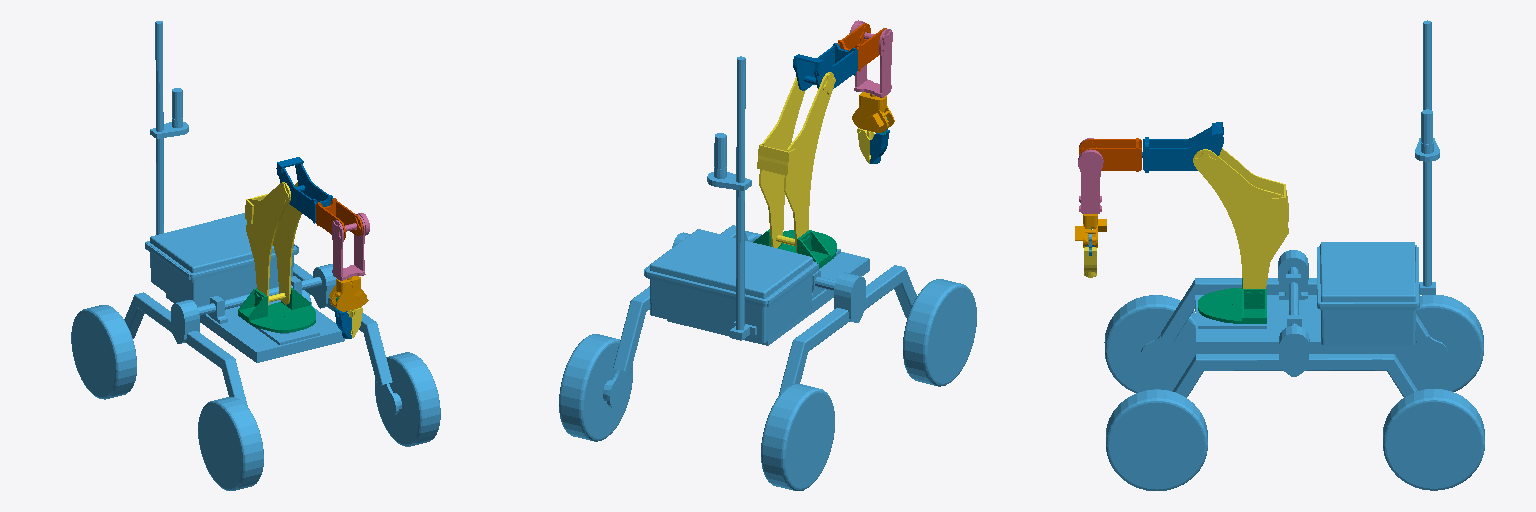
--- What the picture shows (computed from the rendered views, not written in the file) ---
3 views of the same robot in one strip: view 1: azimuth 30°, elevation 25°; view 2: azimuth 150°, elevation 25°; view 3: azimuth 270°, elevation 25° (orthographic).
Robot: polar — 13 links, 12 joints (10 revolute, 2 fixed); root link world; default pose: every joint at zero.
Links seen in each view (by area): view 1: polar_link0, polar_link2, polar_link1, polar_link3, polar_link5, polar_link4, polar_hand; view 2: polar_link0, polar_link2, polar_link3, polar_link1, polar_link5, polar_hand, polar_link4; view 3: polar_link0, polar_link2, polar_link3, polar_link1, polar_link4, polar_link5, polar_hand.
Link boxes in pixels (box(x1,y1,x2,y2)): polar_link0: box(71, 21, 440, 490); polar_link2: box(245, 182, 301, 305); polar_link1: box(238, 288, 315, 332); polar_link3: box(276, 157, 333, 223); polar_link5: box(332, 213, 369, 280); polar_link4: box(316, 198, 362, 239); polar_hand: box(329, 276, 368, 311); polar_link0: box(559, 56, 976, 490); polar_link2: box(757, 72, 835, 251); polar_link3: box(793, 43, 857, 90); polar_link1: box(753, 229, 836, 268); polar_link5: box(849, 20, 892, 97); polar_hand: box(852, 92, 894, 132); polar_link4: box(837, 23, 886, 71); polar_link0: box(1104, 20, 1484, 490); polar_link2: box(1193, 148, 1288, 288); polar_link3: box(1142, 122, 1223, 172); polar_link1: box(1198, 278, 1266, 323); polar_link4: box(1079, 138, 1141, 171); polar_link5: box(1078, 138, 1103, 213); polar_hand: box(1075, 214, 1106, 247).
Bounding box of the posed robot: 0.7447 × 1.2 × 1.28 m (x, y, z).
12 mesh visuals loaded from 12 distinct referenced files (12 Collada DAE).

URDF robot description (polar):
<?xml version="1.0" encoding="utf-8" ?>
<!-- =================================================================================== -->
<!-- |    This document was autogenerated by xacro from [local-path]/ws_manipulation/src/polar_description/robots/polar_arm_hand.urdf.xacro | -->
<!-- |    EDITING THIS FILE BY HAND IS NOT RECOMMENDED                                 | -->
<!-- =================================================================================== -->
<robot name="polar">
    <link name="world" />
    <joint name="robot_to_world" type="fixed">
        <parent link="world" />
        <child link="polar_link0" />
        <origin rpy="0.0 0.0 0.0" xyz="0.0 0.0 0.0" />
    </joint>
    <link name="polar_link0">
        <visual>
            <origin rpy="0 0 0" xyz="0 0 0" />
            <geometry>
                <mesh filename="package://polar_description/meshes/link0.dae" />
            </geometry>
        </visual>
        <collision>
            <origin rpy="0 0 0" xyz="0 0 0" />
            <geometry>
                <mesh filename="package://polar_description/meshes/link0.dae" />
            </geometry>
        </collision>
        
<inertial>
            <origin rpy="0 0 0" xyz="-0.0003 -0.0 0.0620" />
            <mass value="4.6096" />
            <inertia ixx="0.0098" ixy="0.0" ixz="-0.0" iyy="0.0064" iyz="0.0" izz="0.0145" />
        </inertial>

    </link>
    <link name="polar_link1">
        <visual>
            <origin rpy="0 0 0" xyz="0.0005 0.0 -0.095" />
            <geometry>
                <mesh filename="package://polar_description/meshes/link1.dae" />
            </geometry>
        </visual>
        <collision>
            <origin rpy="0 0 0" xyz="0.0005 0.0 -0.095" />
            <geometry>
                <mesh filename="package://polar_description/meshes/link1.dae" />
            </geometry>
        </collision>
        
<inertial>
            <origin rpy="0 0 0" xyz="-0.0003 0.0414 0.0140" />
            <mass value="5.6966" />
            <inertia ixx="0.0205" ixy="-0.0" ixz="-0.0001" iyy="0.0259" iyz="-0.0012" izz="0.0429" />
        </inertial>

    </link>
    <joint name="polar_joint1" type="revolute">
        <safety_controller k_position="100.0" k_velocity="40.0" soft_lower_limit="-3.76991118431" soft_upper_limit="3.76991118431" />
        <origin rpy="0 0 0" xyz="-0.0005 0.0 0.095" />
        <parent link="polar_link0" />
        <child link="polar_link1" />
        <axis xyz="-0.0048 0.0 1.0" />
        <limit effort="87" lower="-3.76991118431" upper="3.76991118431" velocity="2.1750" />
        <dynamics damping="0.0" friction="0.0" />
    </joint>
    <link name="polar_link2">
        <visual>
            <origin rpy="0 0 0" xyz="0.0001 -0.064 -0.144" />
            <geometry>
                <mesh filename="package://polar_description/meshes/link2.dae" />
            </geometry>
        </visual>
        <collision>
            <origin rpy="0 0 0" xyz="0.0001 -0.064 -0.144" />
            <geometry>
                <mesh filename="package://polar_description/meshes/link2.dae" />
            </geometry>
        </collision>
        
<inertial>
            <origin rpy="0 0 0" xyz="-0.0011 -0.0102 0.2446" />
            <mass value="6.3034" />
            <inertia ixx="0.1301" ixy="-0.0" ixz="0.0003" iyy="0.1119" iyz="0.0241" izz="0.0384" />
        </inertial>

    </link>
    <joint name="polar_joint2" type="revolute">
        <safety_controller k_position="100.0" k_velocity="40.0" soft_lower_limit="-0.96" soft_upper_limit="0.35" />
        <origin rpy="0 0 0" xyz="-0.0005 0.064 0.049" />
        <parent link="polar_link1" />
        <child link="polar_link2" />
        <axis xyz="-1.0 -0.0048 -0.0048" />
        <limit effort="87" lower="-0.96" upper="0.35" velocity="2.1750" />
        <dynamics damping="0.0" friction="0.0" />
    </joint>
    <link name="polar_link3">
        <visual>
            <origin rpy="0 0 0" xyz="0.0024 0.0797 -0.5865" />
            <geometry>
                <mesh filename="package://polar_description/meshes/link3.dae" />
            </geometry>
        </visual>
        <collision>
            <origin rpy="0 0 0" xyz="0.0024 0.0797 -0.5865" />
            <geometry>
                <mesh filename="package://polar_description/meshes/link3.dae" />
            </geometry>
        </collision>
        
<inertial>
            <origin rpy="0 0 0" xyz="0.0002 -0.0607 0.0127" />
            <mass value="2.4044" />
            <inertia ixx="0.0165" ixy="0.0" ixz="0.0" iyy="0.0044" iyz="-0.0028" izz="0.0164" />
        </inertial>

    </link>
    <joint name="polar_joint3" type="revolute">
        <safety_controller k_position="100.0" k_velocity="40.0" soft_lower_limit="-0.26" soft_upper_limit="0.87" />
        <origin rpy="0 0 0" xyz="-0.0014 -0.1437 0.4425" />
        <parent link="polar_link2" />
        <child link="polar_link3" />
        <axis xyz="1.0 0.0048 0.0048" />
        <limit effort="87" lower="-0.26" upper="0.87" velocity="2.1750" />
        <dynamics damping="0.0" friction="0.0" />
    </joint>
    <link name="polar_link4">
        <visual>
            <origin rpy="0 0 0" xyz="0.0016 0.2627 -0.5865" />
            <geometry>
                <mesh filename="package://polar_description/meshes/link4.dae" />
            </geometry>
        </visual>
        <collision>
            <origin rpy="0 0 0" xyz="0.0016 0.2627 -0.5865" />
            <geometry>
                <mesh filename="package://polar_description/meshes/link4.dae" />
            </geometry>
        </collision>
        
<inertial>
            <origin rpy="0 0 0" xyz="0.0004 -0.0779 0.0" />
            <mass value="1.4724" />
            <inertia ixx="0.0052" ixy="0.0" ixz="-0.0" iyy="0.0019" iyz="0.0" izz="0.0059" />
        </inertial>

    </link>
    <joint name="polar_joint4" type="revolute">
        <safety_controller k_position="100.0" k_velocity="40.0" soft_lower_limit="-3.14159265359" soft_upper_limit="3.14159265359" />
        <origin rpy="0 0 0" xyz="0.0009 -0.1830 0.0" />
        <parent link="polar_link3" />
        <child link="polar_link4" />
        <axis xyz="0.0048 -1.0 0.0" />
        <limit effort="87" lower="-3.14159265359" upper="3.14159265359" velocity="2.1750" />
        <dynamics damping="0.0" friction="0.0" />
    </joint>
    <link name="polar_link5">
        <visual>
            <origin rpy="0 0 0" xyz="0.0008 0.4142 -0.5865" />
            <geometry>
                <mesh filename="package://polar_description/meshes/link5.dae" />
            </geometry>
        </visual>
        <collision>
            <origin rpy="0 0 0" xyz="0.0008 0.4142 -0.5865" />
            <geometry>
                <mesh filename="package://polar_description/meshes/link5.dae" />
            </geometry>
        </collision>
        
<inertial>
            <origin rpy="0 0 0" xyz="0.0115 0.0 -0.0568" />
            <mass value="2.2547" />
            <inertia ixx="0.0109" ixy="-0.0" ixz="-0.0014" iyy="0.0136" iyz="-0.0" izz="0.0040" />
        </inertial>

    </link>
    <joint name="polar_joint5" type="revolute">
        <safety_controller k_position="100.0" k_velocity="40.0" soft_lower_limit="-3.14159265359" soft_upper_limit="0.96" />
        <origin rpy="0 0 0" xyz="0.0007 -0.1515 0.0" />
        <parent link="polar_link4" />
        <child link="polar_link5" />
        <axis xyz="1.0 0.0048 0.0048" />
        <limit effort="12" lower="-3.14159265359" upper="0.96" velocity="2.6100" />
        <dynamics damping="0.0" friction="0.0" />
    </joint>
    <link name="polar_link6">
        <visual>
            <origin rpy="0 0 0" xyz="0.0 0.4142 -0.4235" />
            <geometry>
                <mesh filename="package://polar_description/meshes/link6.dae" />
            </geometry>
        </visual>
        <collision>
            <origin rpy="0 0 0" xyz="0.0 0.4142 -0.4235" />
            <geometry>
                <mesh filename="package://polar_description/meshes/link6.dae" />
            </geometry>
        </collision>
        
<inertial>
            <origin rpy="0 0 0" xyz="0.0 0.0 -0.005" />
            <mass value="0.0254" />
            <inertia ixx="0.0" ixy="-0.0" ixz="-0.0" iyy="0.0" iyz="0.0" izz="0.0" />
        </inertial>

    </link>
    <joint name="polar_joint6" type="revolute">
        <safety_controller k_position="100.0" k_velocity="40.0" soft_lower_limit="-3.14159265359" soft_upper_limit="3.14159265359" />
        <origin rpy="0 0 0" xyz="0.0008 -0.0 -0.1630" />
        <parent link="polar_link5" />
        <child link="polar_link6" />
        <axis xyz="0.0048 -0.0 -1.0" />
        <limit effort="12" lower="-3.14159265359" upper="3.14159265359" velocity="2.6100" />
        <dynamics damping="0.0" friction="0.0" />
    </joint>
    <joint name="polar_hand_joint" type="fixed">
        <parent link="polar_link6" />
        <child link="polar_hand" />
        <origin rpy="1.57079632679 0 0" xyz="-0.00675 -0.00964 -0.06152" />
    </joint>
    <link name="polar_hand">
        <visual>
            <origin rpy="0 0 0" xyz="0 0 0" />
            <geometry>
                <mesh filename="package://polar_description/meshes/gripper/hand.dae" />
            </geometry>
        </visual>
        <collision>
            <origin rpy="0 0 0" xyz="0 0 0" />
            <geometry>
                <mesh filename="package://polar_description/meshes/gripper/hand.dae" />
            </geometry>
        </collision>
        
<inertial>
            <origin rpy="0 0 0" xyz="0.006846 0.005366 -0.009625" />
            <mass value="1.2773" />
            <inertia ixx="0.0011" ixy="0.0" ixz="0.0" iyy="0.0006" iyz="0.0" izz="0.0015" />
        </inertial>

    </link>
    <link name="polar_outer_l">
        <visual>
            <origin rpy="0 0 0" xyz="-0.025351 0.027594 0.004951" />
            <geometry>
                <mesh filename="package://polar_description/meshes/gripper/outer_l.dae" />
            </geometry>
        </visual>
        <collision>
            <origin rpy="0 0 0" xyz="-0.025351 0.027594 0.004951" />
            <geometry>
                <mesh filename="package://polar_description/meshes/gripper/outer_l.dae" />
            </geometry>
        </collision>
        
<inertial>
            <origin rpy="0 0 0" xyz="0.006975 -0.006230 -0.004655" />
            <mass value="0.0877" />
            <inertia ixx="0.0" ixy="0.0" ixz="-0.0" iyy="0.0" iyz="0.0" izz="0.0" />
        </inertial>

    </link>
    <link name="polar_outer_r">
        <visual>
            <origin rpy="0 0 0" xyz="0.011889 0.027594 0.004951" />
            <geometry>
                <mesh filename="package://polar_description/meshes/gripper/outer_r.dae" />
            </geometry>
        </visual>
        <collision>
            <origin rpy="0 0 0" xyz="0.011889 0.027594 0.004951" />
            <geometry>
                <mesh filename="package://polar_description/meshes/gripper/outer_r.dae" />
            </geometry>
        </collision>
        
<inertial>
            <origin rpy="0 0 0" xyz="-0.007134 -0.006305 -0.004655" />
            <mass value="0.0868" />
            <inertia ixx="0.0" ixy="0.0" ixz="0.0" iyy="0.0" iyz="-0.0" izz="0.0" />
        </inertial>

    </link>
    <link name="polar_finger_l">
        <visual>
            <origin rpy="0 0 0" xyz="-0.061266 0.066842 0.004951" />
            <geometry>
                <mesh filename="package://polar_description/meshes/gripper/finger_l.dae" />
            </geometry>
        </visual>
        <collision>
            <origin rpy="0 0 0" xyz="-0.061266 0.066842 0.004951" />
            <geometry>
                <mesh filename="package://polar_description/meshes/gripper/finger_l.dae" />
            </geometry>
        </collision>
        
<inertial>
            <origin rpy="0 0 0" xyz="0.006607 -0.028924 -0.004655" />
            <mass value="0.7779" />
            <inertia ixx="0.0009" ixy="0.0" ixz="-0.0" iyy="0.0003" iyz="0.0" izz="0.0009" />
        </inertial>

    </link>
    <link name="polar_finger_r">
        <visual>
            <origin rpy="0 0 0" xyz="0.047804 0.066842 0.004951" />
            <geometry>
                <mesh filename="package://polar_description/meshes/gripper/finger_r.dae" />
            </geometry>
        </visual>
        <collision>
            <origin rpy="0 0 0" xyz="0.047804 0.066842 0.004951" />
            <geometry>
                <mesh filename="package://polar_description/meshes/gripper/finger_r.dae" />
            </geometry>
        </collision>
        
<inertial>
            <origin rpy="0 0 0" xyz="-0.006607 -0.028924 -0.004655" />
            <mass value="0.7779" />
            <inertia ixx="0.0009" ixy="0.0" ixz="0.0" iyy="0.0003" iyz="0.0" izz="0.0009" />
        </inertial>

    </link>
    <joint name="polar_hand_joint2" type="revolute">
        <origin rpy="0 0 0" xyz="-0.011889 -0.027594 -0.004951" />
        <parent link="polar_hand" />
        <child link="polar_outer_r" />
        <axis xyz="0.0 -0.0 -1.0" />
        <mimic joint="polar_hand_joint1" multiplier="-1.0" />
        <limit effort="100" lower="-0.74002" upper="0.827286" velocity="100" />
    </joint>
    <joint name="polar_hand_joint1" type="revolute">
        <origin rpy="0 0 0" xyz="0.025351 -0.027594 -0.004951" />
        <parent link="polar_hand" />
        <child link="polar_outer_l" />
        <axis xyz="0.0 -0.0 -1.0" />
        <limit effort="100" lower="-0.827286" upper="0.74002" velocity="100" />
    </joint>
    <joint name="polar_finger_joint1" type="revolute">
        <origin rpy="0 0 0" xyz="0.035915 -0.039248 0.0" />
        <parent link="polar_outer_l" />
        <child link="polar_finger_l" />
        <axis xyz="-0.0 -0.0 -1.0" />
        <mimic joint="polar_hand_joint1" multiplier="-1.0" />
        <limit effort="100" lower="-0.74002" upper="0.827286" velocity="100" />
    </joint>
    <joint name="polar_finger_joint2" type="revolute">
        <origin rpy="0 0 0" xyz="-0.035915 -0.039248 0.0" />
        <parent link="polar_outer_r" />
        <child link="polar_finger_r" />
        <axis xyz="0.0 0.0 1.0" />
        <mimic joint="polar_hand_joint1" multiplier="-1.0" />
        <limit effort="100" lower="-0.74002" upper="0.827286" velocity="100" />
    </joint>
    <!-- Link0 -->
    <gazebo reference="polar_link0">
        <material>Gazebo/Grey</material>
        <mu1>0.2</mu1>
        <mu2>0.2</mu2>
    </gazebo>
    <!-- Link1 -->
    <gazebo reference="polar_link1">
        <material>Gazebo/White</material>
        <mu1>0.2</mu1>
        <mu2>0.2</mu2>
    </gazebo>
    <!-- Link2 -->
    <gazebo reference="polar_link2">
        <material>Gazebo/White</material>
        <mu1>0.2</mu1>
        <mu2>0.2</mu2>
    </gazebo>
    <!-- Link3 -->
    <gazebo reference="polar_link3">
        <material>Gazebo/White</material>
        <mu1>0.2</mu1>
        <mu2>0.2</mu2>
    </gazebo>
    <!-- Link4 -->
    <gazebo reference="polar_link4">
        <material>Gazebo/White</material>
        <mu1>0.2</mu1>
        <mu2>0.2</mu2>
    </gazebo>
    <!-- Link5 -->
    <gazebo reference="polar_link5">
        <material>Gazebo/White</material>
        <mu1>0.2</mu1>
        <mu2>0.2</mu2>
    </gazebo>
    <!-- Link6 -->
    <gazebo reference="polar_link6">
        <material>Gazebo/White</material>
        <mu1>0.2</mu1>
        <mu2>0.2</mu2>
    </gazebo>
    <!-- LinkLeftOuter -->
    <gazebo reference="polar_outer_l">
        <material>Gazebo/Grey</material>
        <mu1>0.2</mu1>
        <mu2>0.2</mu2>
    </gazebo>
    <!-- LinkRightOuter -->
    <gazebo reference="polar_outer_r">
        <material>Gazebo/Grey</material>
        <mu1>0.2</mu1>
        <mu2>0.2</mu2>
    </gazebo>
    <!-- LinkLeftFinger -->
    <gazebo reference="polar_finger_l">
        <material>Gazebo/Grey</material>
        <mu1>0.2</mu1>
        <mu2>0.2</mu2>
    </gazebo>
    <!-- LinkRightFinger-->
    <gazebo reference="polar_finger_r">
        <material>Gazebo/Grey</material>
        <mu1>0.2</mu1>
        <mu2>0.2</mu2>
    </gazebo>
    <!-- Load Gazebo lib and set the robot namespace -->
    <gazebo>
        <plugin filename="libgazebo_ros_control.so" name="gazebo_ros_control">
            <robotNamespace>/polar</robotNamespace>
        </plugin>
    </gazebo>
    <!-- Polar arm -->
    
<transmission name="polar_tran_1">
        <type>transmission_interface/SimpleTransmission</type>
        <joint name="polar_joint1">
            <hardwareInterface>hardware_interface/PositionJointInterface</hardwareInterface>
        </joint>
        <actuator name="polar_motor_1">
            <hardwareInterface>hardware_interface/PositionJointInterface</hardwareInterface>
            <mechanicalReduction>1</mechanicalReduction>
        </actuator>
    </transmission>
    <transmission name="polar_tran_2">
        <type>transmission_interface/SimpleTransmission</type>
        <joint name="polar_joint2">
            <hardwareInterface>hardware_interface/PositionJointInterface</hardwareInterface>
        </joint>
        <actuator name="polar_motor_2">
            <hardwareInterface>hardware_interface/PositionJointInterface</hardwareInterface>
            <mechanicalReduction>1</mechanicalReduction>
        </actuator>
    </transmission>
    <transmission name="polar_tran_3">
        <type>transmission_interface/SimpleTransmission</type>
        <joint name="polar_joint3">
            <hardwareInterface>hardware_interface/PositionJointInterface</hardwareInterface>
        </joint>
        <actuator name="polar_motor_3">
            <hardwareInterface>hardware_interface/PositionJointInterface</hardwareInterface>
            <mechanicalReduction>1</mechanicalReduction>
        </actuator>
    </transmission>
    <transmission name="polar_tran_4">
        <type>transmission_interface/SimpleTransmission</type>
        <joint name="polar_joint4">
            <hardwareInterface>hardware_interface/PositionJointInterface</hardwareInterface>
        </joint>
        <actuator name="polar_motor_4">
            <hardwareInterface>hardware_interface/PositionJointInterface</hardwareInterface>
            <mechanicalReduction>1</mechanicalReduction>
        </actuator>
    </transmission>
    <transmission name="polar_tran_5">
        <type>transmission_interface/SimpleTransmission</type>
        <joint name="polar_joint5">
            <hardwareInterface>hardware_interface/PositionJointInterface</hardwareInterface>
        </joint>
        <actuator name="polar_motor_5">
            <hardwareInterface>hardware_interface/PositionJointInterface</hardwareInterface>
            <mechanicalReduction>1</mechanicalReduction>
        </actuator>
    </transmission>
    <transmission name="polar_tran_6">
        <type>transmission_interface/SimpleTransmission</type>
        <joint name="polar_joint6">
            <hardwareInterface>hardware_interface/PositionJointInterface</hardwareInterface>
        </joint>
        <actuator name="polar_motor_6">
            <hardwareInterface>hardware_interface/PositionJointInterface</hardwareInterface>
            <mechanicalReduction>1</mechanicalReduction>
        </actuator>
    </transmission>
    <!-- Hand -->
    <transmission name="polar_hand_tran">
        <type>transmission_interface/SimpleTransmission</type>
        <joint name="polar_hand_joint1">
            <hardwareInterface>hardware_interface/PositionJointInterface</hardwareInterface>
        </joint>
        <actuator name="polar_hand_motor_1">
            <hardwareInterface>hardware_interface/PositionJointInterface</hardwareInterface>
            <mechanicalReduction>1</mechanicalReduction>
        </actuator>
    </transmission>
    <!-- Mimic joints -->
    <gazebo>
        <plugin filename="libgazebo_mimic_joint_plugin.so" name="polar_hand_mimic_1">
            <joint>polar_hand_joint2</joint>
            <mimicJoint>polar_hand_joint1</mimicJoint>
            <multiplier>-1.0</multiplier>
            <offset>0.0</offset>
        </plugin>
        <plugin filename="libgazebo_mimic_joint_plugin.so" name="polar_hand_mimic_2">
            <joint>polar_finger_joint1</joint>
            <mimicJoint>polar_hand_joint1</mimicJoint>
            <multiplier>-1.0</multiplier>
            <offset>0.0</offset>
        </plugin>
        <plugin filename="libgazebo_mimic_joint_plugin.so" name="polar_hand_mimic_3">
            <joint>polar_finger_joint2</joint>
            <mimicJoint>polar_hand_joint1</mimicJoint>
            <multiplier>-1.0</multiplier>
            <offset>0.0</offset>
        </plugin>
    </gazebo>
    <transmission name="trans_polar_joint1">
        <type>transmission_interface/SimpleTransmission</type>
        <joint name="polar_joint1">
            <hardwareInterface>hardware_interface/EffortJointInterface</hardwareInterface>
        </joint>
        <actuator name="polar_joint1_motor">
            <hardwareInterface>hardware_interface/EffortJointInterface</hardwareInterface>
            <mechanicalReduction>1</mechanicalReduction>
        </actuator>
    </transmission>
    <transmission name="trans_polar_joint2">
        <type>transmission_interface/SimpleTransmission</type>
        <joint name="polar_joint2">
            <hardwareInterface>hardware_interface/EffortJointInterface</hardwareInterface>
        </joint>
        <actuator name="polar_joint2_motor">
            <hardwareInterface>hardware_interface/EffortJointInterface</hardwareInterface>
            <mechanicalReduction>1</mechanicalReduction>
        </actuator>
    </transmission>
    <transmission name="trans_polar_joint3">
        <type>transmission_interface/SimpleTransmission</type>
        <joint name="polar_joint3">
            <hardwareInterface>hardware_interface/EffortJointInterface</hardwareInterface>
        </joint>
        <actuator name="polar_joint3_motor">
            <hardwareInterface>hardware_interface/EffortJointInterface</hardwareInterface>
            <mechanicalReduction>1</mechanicalReduction>
        </actuator>
    </transmission>
    <transmission name="trans_polar_joint4">
        <type>transmission_interface/SimpleTransmission</type>
        <joint name="polar_joint4">
            <hardwareInterface>hardware_interface/EffortJointInterface</hardwareInterface>
        </joint>
        <actuator name="polar_joint4_motor">
            <hardwareInterface>hardware_interface/EffortJointInterface</hardwareInterface>
            <mechanicalReduction>1</mechanicalReduction>
        </actuator>
    </transmission>
    <transmission name="trans_polar_joint5">
        <type>transmission_interface/SimpleTransmission</type>
        <joint name="polar_joint5">
            <hardwareInterface>hardware_interface/EffortJointInterface</hardwareInterface>
        </joint>
        <actuator name="polar_joint5_motor">
            <hardwareInterface>hardware_interface/EffortJointInterface</hardwareInterface>
            <mechanicalReduction>1</mechanicalReduction>
        </actuator>
    </transmission>
    <transmission name="trans_polar_joint6">
        <type>transmission_interface/SimpleTransmission</type>
        <joint name="polar_joint6">
            <hardwareInterface>hardware_interface/EffortJointInterface</hardwareInterface>
        </joint>
        <actuator name="polar_joint6_motor">
            <hardwareInterface>hardware_interface/EffortJointInterface</hardwareInterface>
            <mechanicalReduction>1</mechanicalReduction>
        </actuator>
    </transmission>
    <transmission name="trans_polar_hand_joint2">
        <type>transmission_interface/SimpleTransmission</type>
        <joint name="polar_hand_joint2">
            <hardwareInterface>hardware_interface/EffortJointInterface</hardwareInterface>
        </joint>
        <actuator name="polar_hand_joint2_motor">
            <hardwareInterface>hardware_interface/EffortJointInterface</hardwareInterface>
            <mechanicalReduction>1</mechanicalReduction>
        </actuator>
    </transmission>
    <transmission name="trans_polar_hand_joint1">
        <type>transmission_interface/SimpleTransmission</type>
        <joint name="polar_hand_joint1">
            <hardwareInterface>hardware_interface/EffortJointInterface</hardwareInterface>
        </joint>
        <actuator name="polar_hand_joint1_motor">
            <hardwareInterface>hardware_interface/EffortJointInterface</hardwareInterface>
            <mechanicalReduction>1</mechanicalReduction>
        </actuator>
    </transmission>
    <transmission name="trans_polar_finger_joint1">
        <type>transmission_interface/SimpleTransmission</type>
        <joint name="polar_finger_joint1">
            <hardwareInterface>hardware_interface/EffortJointInterface</hardwareInterface>
        </joint>
        <actuator name="polar_finger_joint1_motor">
            <hardwareInterface>hardware_interface/EffortJointInterface</hardwareInterface>
            <mechanicalReduction>1</mechanicalReduction>
        </actuator>
    </transmission>
    <transmission name="trans_polar_finger_joint2">
        <type>transmission_interface/SimpleTransmission</type>
        <joint name="polar_finger_joint2">
            <hardwareInterface>hardware_interface/EffortJointInterface</hardwareInterface>
        </joint>
        <actuator name="polar_finger_joint2_motor">
            <hardwareInterface>hardware_interface/EffortJointInterface</hardwareInterface>
            <mechanicalReduction>1</mechanicalReduction>
        </actuator>
    </transmission>
    <gazebo>
        <plugin name="gazebo_ros_control" filename="libgazebo_ros_control.so">
            <robotNamespace>/</robotNamespace>
        </plugin>
    </gazebo>
</robot>
